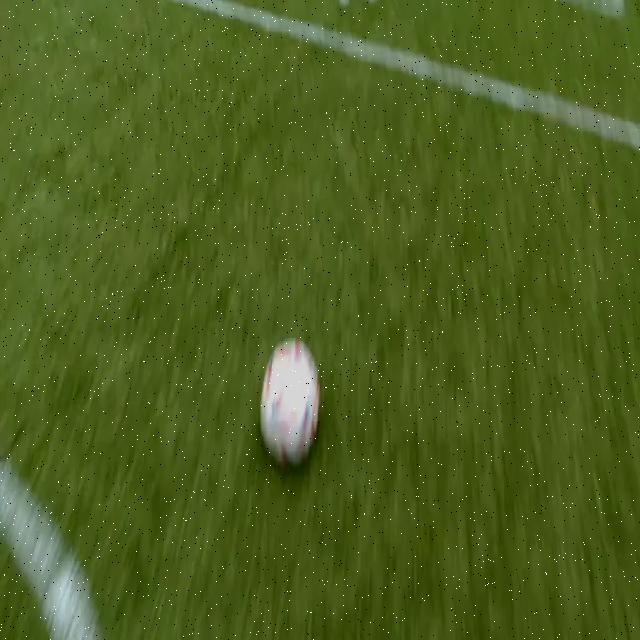ball: (260, 339, 319, 467)
